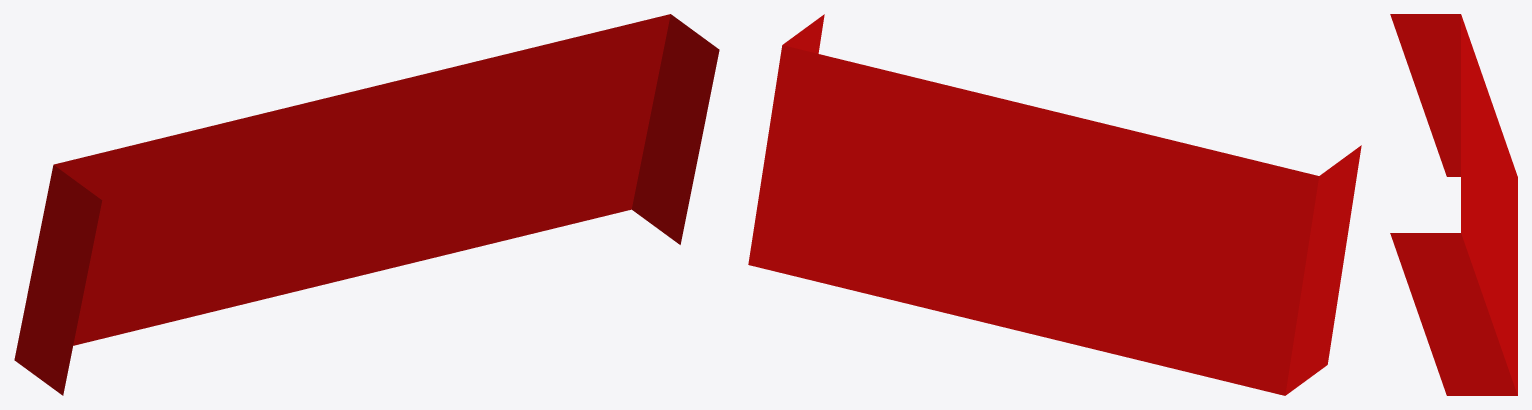
Rendered from Transak_UI_z_4_tut1B.glb.
3 views of the same model, side by side, from view 1: azimuth 30°, elevation 25°; view 2: azimuth 150°, elevation 25°; view 3: azimuth 270°, elevation 25° (orthographic). The views are drawn at different scales.
Parts seen in each view (by area): view 1: Button_Next_1_; view 2: Button_Next_1_; view 3: Button_Next_1_.
Part boxes in pixels (x1=…): Button_Next_1_: x1=14, y1=14, x2=719, y2=395; Button_Next_1_: x1=748, y1=14, x2=1361, y2=395; Button_Next_1_: x1=1390, y1=14, x2=1517, y2=395.
Size of the model in its own units: 0.219 by 0.076 by 0.054.
